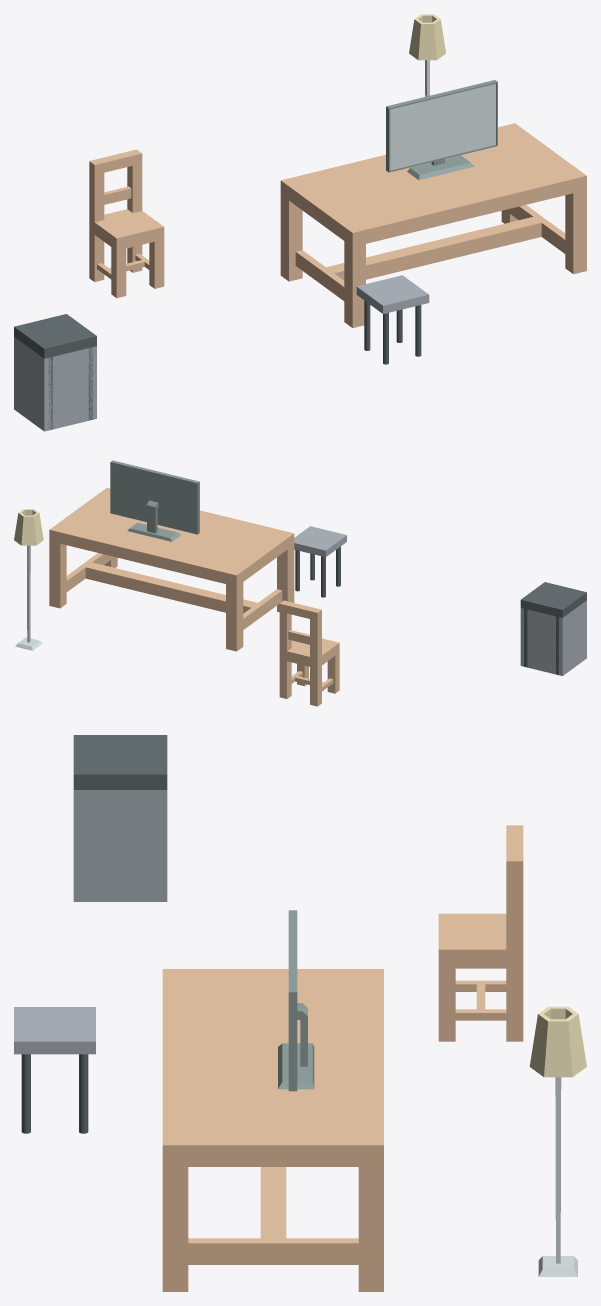
The picture shows the model from 3 angles, top to bottom: view 1: azimuth 30°, elevation 25°; view 2: azimuth 150°, elevation 25°; view 3: azimuth 270°, elevation 25°; orthographic projection. The views are drawn at different scales.
Parts seen in each view (by area): view 1: table_green__table(Clone), tv_black__televisionModern(Clone), chair_cyan__chair(Clone), bin_gray__bin_gray shell, bin_gray__bin_gray lid, stool_purple__stool_purple seat, lamp_white__lampRoundFloor(Clone); view 2: table_green__table(Clone), tv_black__televisionModern(Clone), chair_cyan__chair(Clone), bin_gray__bin_gray shell, lamp_white__lampRoundFloor(Clone), bin_gray__bin_gray lid, stool_purple__stool_purple seat; view 3: table_green__table(Clone), bin_gray__bin_gray shell, chair_cyan__chair(Clone), bin_gray__bin_gray lid, lamp_white__lampRoundFloor(Clone), stool_purple__stool_purple seat, tv_black__televisionModern(Clone), stool_purple__stool_purple leg.002, stool_purple__stool_purple leg.003.
Part boxes in pixels (<box>): table_green__table(Clone): <box>280,123,586,327</box>; tv_black__televisionModern(Clone): <box>386,80,497,180</box>; chair_cyan__chair(Clone): <box>89,149,164,298</box>; bin_gray__bin_gray shell: <box>14,337,96,431</box>; bin_gray__bin_gray lid: <box>14,314,96,358</box>; stool_purple__stool_purple seat: <box>356,275,429,313</box>; lamp_white__lampRoundFloor(Clone): <box>409,14,445,96</box>; table_green__table(Clone): <box>49,487,294,651</box>; tv_black__televisionModern(Clone): <box>110,460,199,541</box>; chair_cyan__chair(Clone): <box>279,600,339,706</box>; bin_gray__bin_gray shell: <box>520,600,586,675</box>; lamp_white__lampRoundFloor(Clone): <box>14,509,43,650</box>; bin_gray__bin_gray lid: <box>520,582,586,617</box>; stool_purple__stool_purple seat: <box>294,526,346,557</box>; table_green__table(Clone): <box>162,969,383,1291</box>; bin_gray__bin_gray shell: <box>73,790,167,901</box>; chair_cyan__chair(Clone): <box>438,825,523,1041</box>; bin_gray__bin_gray lid: <box>73,735,167,789</box>; lamp_white__lampRoundFloor(Clone): <box>529,1006,586,1276</box>; stool_purple__stool_purple seat: <box>14,1007,95,1054</box>; tv_black__televisionModern(Clone): <box>278,910,314,1091</box>; stool_purple__stool_purple leg.002: <box>21,1054,30,1133</box>; stool_purple__stool_purple leg.003: <box>79,1054,88,1133</box>.
Bounding box in the file's own units: 4.34 × 1.24 × 2.45.
